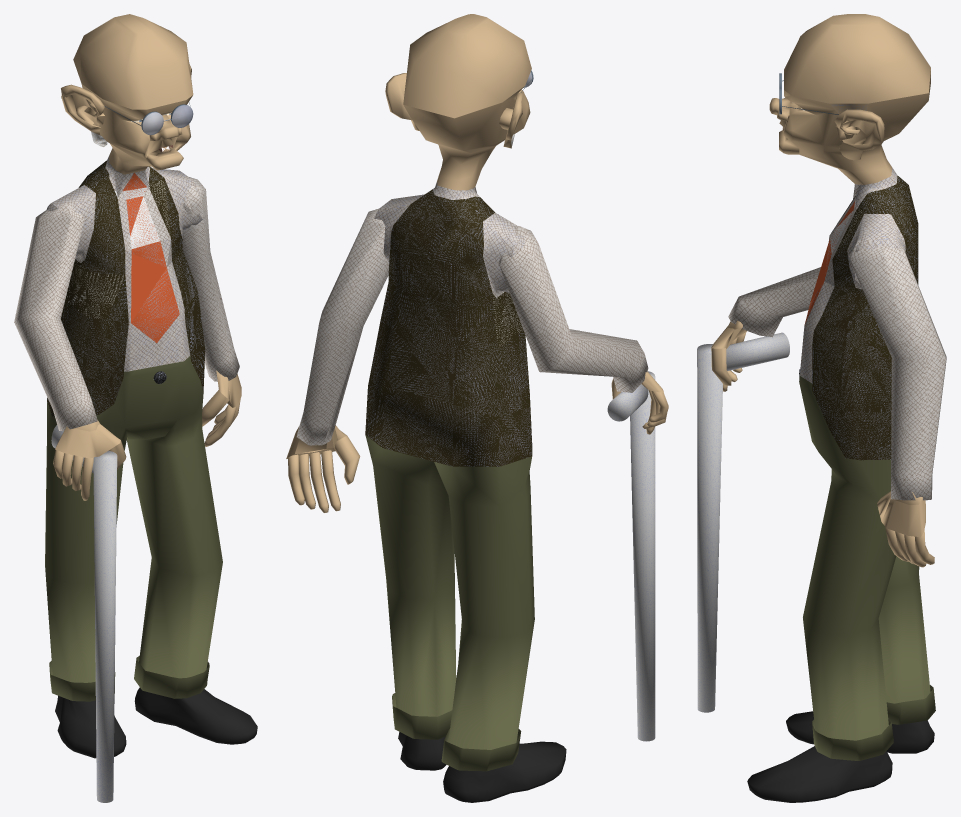
3 renders of one model, left to right at view 1: azimuth 30°, elevation 25°; view 2: azimuth 150°, elevation 25°; view 3: azimuth 270°, elevation 25°, orthographic. The views are drawn at different scales.
Visible parts, largest first — view 1: group_1 (×11), group_8, group_10, group_5, group_3, group_4, group_2, group_6; view 2: group_1 (×6), group_5, group_8, group_10, group_4, group_6, group_3, group_9; view 3: group_1 (×8), group_5, group_10, group_3, group_8, group_4, group_9, group_6, group_2.
Part boxes in pixels (box(x1,y1,x2,y2)): group_1 (×11): box(45, 14, 222, 701); group_8: box(14, 202, 97, 430); group_10: box(93, 450, 117, 802); group_5: box(182, 177, 239, 381); group_3: box(134, 687, 257, 744); group_4: box(55, 695, 126, 758); group_2: box(55, 420, 126, 500); group_6: box(202, 370, 241, 426); group_1 (×6): box(365, 14, 534, 771); group_5: box(296, 209, 388, 445); group_8: box(498, 226, 648, 392); group_10: box(630, 371, 655, 741); group_4: box(443, 741, 566, 802); group_6: box(286, 425, 360, 484); group_3: box(398, 732, 446, 770); group_9: box(607, 384, 648, 421); group_1 (×8): box(769, 14, 935, 760); group_5: box(849, 240, 946, 500); group_10: box(697, 344, 722, 712); group_3: box(747, 746, 892, 802); group_8: box(728, 184, 855, 337); group_4: box(786, 711, 934, 753); group_9: box(726, 332, 789, 370); group_6: box(877, 491, 925, 537); group_2: box(711, 320, 746, 391).
Size of the model in its own units: 44.53 by 33.28 by 109.
